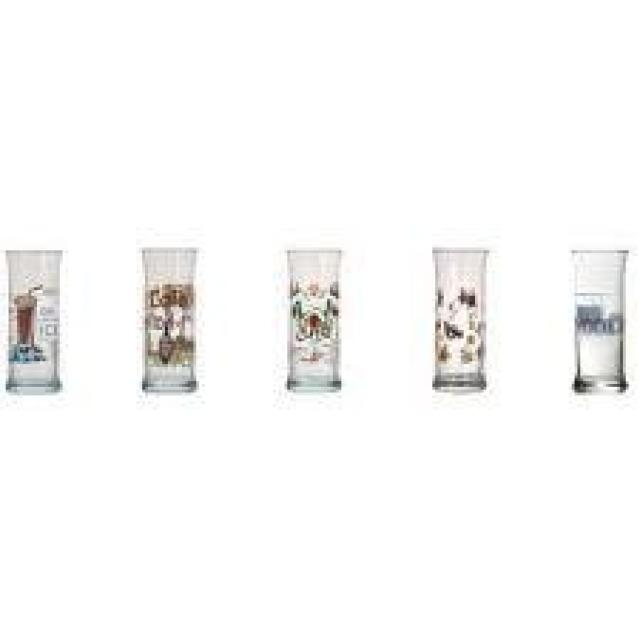non-organic waste: (130, 248, 208, 396), (563, 247, 632, 398)
